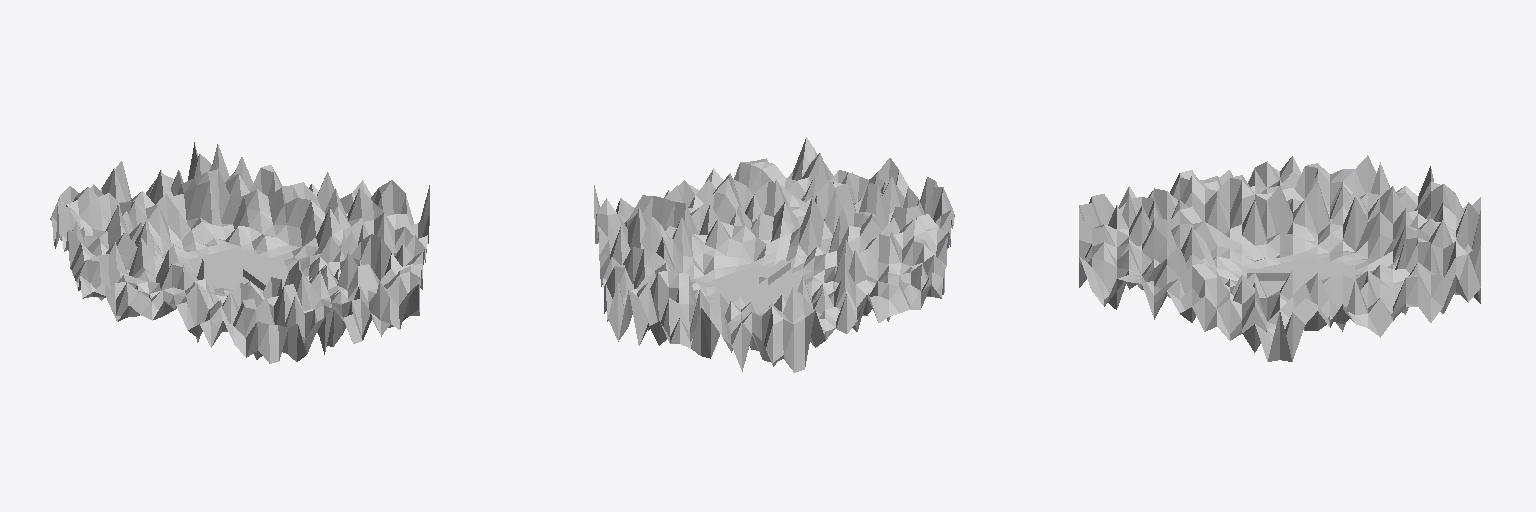
Rendered from playarea.obj.
The picture shows the model from 3 angles: view 1: azimuth 30°, elevation 25°; view 2: azimuth 150°, elevation 25°; view 3: azimuth 270°, elevation 25°; orthographic projection.
Visible parts, largest first — view 1: Grid_Grid.001, Cube.001_Cube.000; view 2: Grid_Grid.001, Cube.001_Cube.000; view 3: Grid_Grid.001, Cube.001_Cube.000.
Part boxes in pixels (x1,y1,x2,y2): Grid_Grid.001: (50,142,429,363); Cube.001_Cube.000: (190,249,275,284); Grid_Grid.001: (594,137,954,372); Cube.001_Cube.000: (708,260,790,310); Grid_Grid.001: (1079,155,1480,361); Cube.001_Cube.000: (1247,263,1343,285).
Size of the model in its own units: 123 by 20.79 by 123.